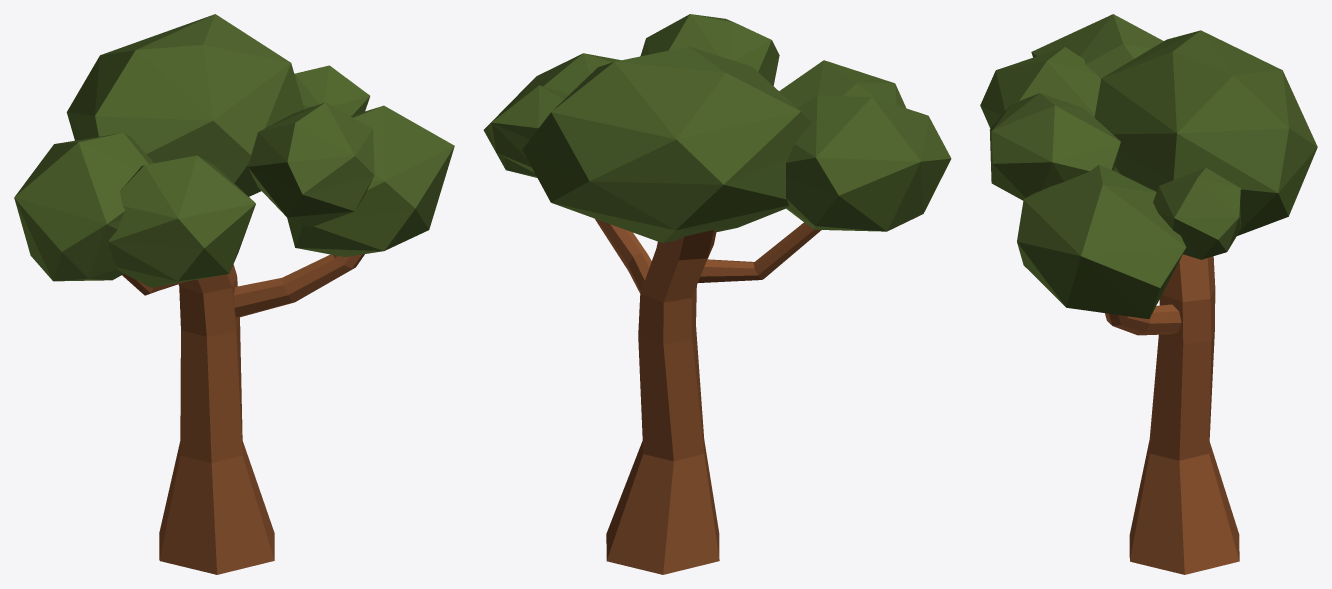
The model's file is Tree_2.fbx.
3 renders of one model, left to right at view 1: azimuth 30°, elevation 25°; view 2: azimuth 150°, elevation 25°; view 3: azimuth 270°, elevation 25°, orthographic. The views are drawn at different scales.
Visible parts, largest first — view 1: Tree_2; view 2: Tree_2; view 3: Tree_2.
Boxes of the visible parts, x1,y1,x2,y2 form: Tree_2: (14,14,454,574); Tree_2: (483,14,951,574); Tree_2: (980,14,1317,574).
Size of the model in its own units: 835 by 951 by 597.
